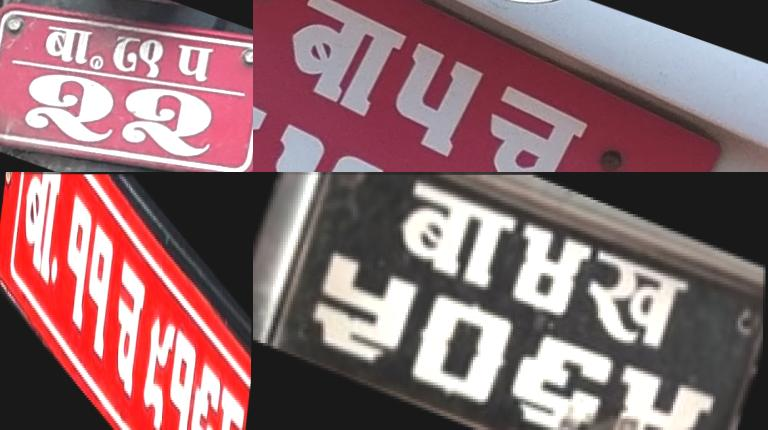0: (395, 281, 526, 422), (38, 17, 98, 69)
1: (112, 73, 231, 168), (15, 60, 130, 153), (82, 215, 122, 373), (60, 185, 96, 337), (163, 316, 201, 430)
4: (493, 208, 603, 332), (589, 351, 726, 430), (253, 105, 404, 172)
5: (287, 238, 434, 388), (371, 29, 499, 172)
6: (489, 314, 627, 430), (185, 341, 224, 430)
8: (167, 37, 220, 87), (210, 369, 249, 430)
9: (137, 287, 178, 430)
ba: (377, 173, 528, 306), (261, 0, 419, 125), (17, 172, 65, 293)
cha: (459, 68, 603, 172), (110, 249, 148, 407)
kha: (570, 237, 704, 367)
lu: (130, 35, 172, 80)
pa: (106, 31, 147, 74)
